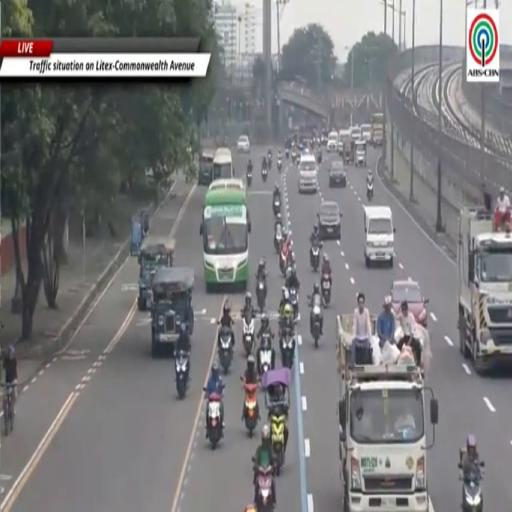bus: (200, 189, 250, 291), (213, 148, 234, 180), (198, 151, 214, 185), (209, 179, 245, 190)
car: (391, 281, 428, 327), (318, 201, 341, 239), (298, 151, 318, 194), (329, 160, 346, 187), (237, 135, 250, 153), (361, 124, 371, 143), (351, 126, 361, 140)
jeepney: (152, 267, 194, 358), (138, 235, 175, 311), (130, 216, 143, 255), (355, 139, 366, 166), (343, 138, 354, 164)
motorcycle: (203, 388, 223, 449), (460, 461, 484, 511), (241, 378, 259, 437), (270, 412, 286, 475), (174, 351, 190, 399), (256, 466, 273, 511), (257, 333, 274, 376), (218, 327, 233, 374), (280, 330, 294, 369), (243, 313, 254, 356), (311, 304, 321, 347), (320, 273, 332, 307), (256, 279, 267, 313), (289, 288, 298, 319), (310, 245, 320, 271), (280, 244, 288, 276), (274, 224, 282, 253), (273, 196, 281, 216), (367, 182, 373, 201), (247, 171, 252, 186), (262, 168, 267, 182), (277, 158, 282, 172), (292, 150, 297, 163), (317, 152, 322, 164), (268, 156, 272, 170), (285, 149, 289, 158)
truck: (336, 315, 438, 511), (457, 207, 511, 374), (371, 112, 384, 146)
